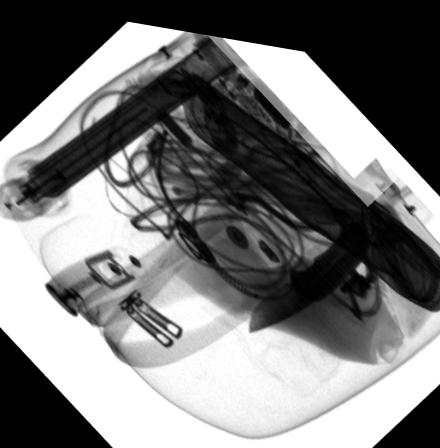Knife: (249, 207, 370, 323)
